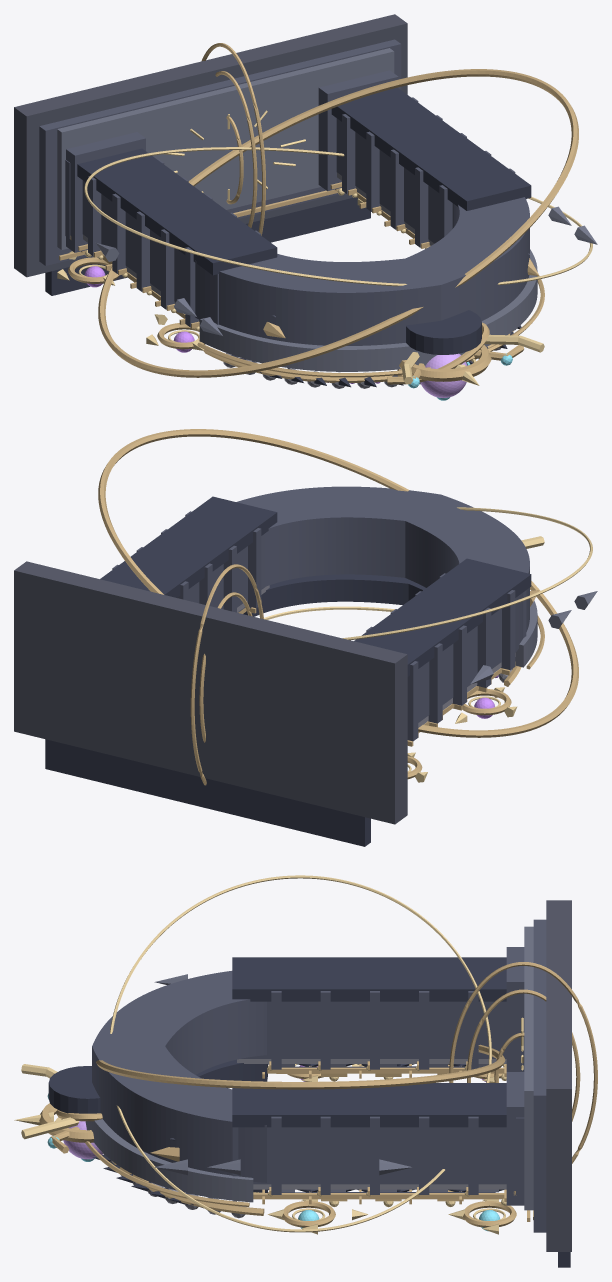
The model's file is NW_OBSIDIAN_GATE_Contour3D_DEMO.glb.
3 renders of one model, top to bottom at view 1: azimuth 30°, elevation 25°; view 2: azimuth 150°, elevation 25°; view 3: azimuth 270°, elevation 25°, orthographic.
Visible parts, largest first — view 1: G02__obsidian, G01__rough_black, G06__slate, G06__platform, G01__obsidian, G06__obsidian, G04__bronze, G02__slate, G06__rough_black, G04__gold, G06__bronze, G05__rough_black (+6 smaller); view 2: G06__platform, G02__obsidian, G01__rough_black, G01__obsidian, G06__rough_black, G04__bronze, G02__rough_black, G04__gold, G06__bronze, G02__slate, G04__slate; view 3: G01__obsidian, G02__obsidian, G01__rough_black, G06__platform, G04__bronze, G06__obsidian, G04__gold, G02__slate, G06__bronze, G06__slate, G01__slate_light, G05__rough_black (+9 smaller).
Boxes of the visible parts, left/top/right/bottom form: G02__obsidian: left=195, top=197, right=529, bottom=345; G01__rough_black: left=77, top=87, right=531, bottom=275; G06__slate: left=57, top=48, right=394, bottom=249; G06__platform: left=14, top=14, right=407, bottom=277; G01__obsidian: left=65, top=97, right=529, bottom=327; G06__obsidian: left=39, top=39, right=401, bottom=265; G04__bronze: left=68, top=69, right=578, bottom=377; G02__slate: left=199, top=249, right=537, bottom=371; G06__rough_black: left=45, top=197, right=370, bottom=295; G04__gold: left=57, top=147, right=592, bottom=350; G06__bronze: left=59, top=43, right=341, bottom=260; G05__rough_black: left=406, top=310, right=481, bottom=354; G06__platform: left=14, top=561, right=407, bottom=824; G02__obsidian: left=236, top=486, right=529, bottom=652; G01__rough_black: left=100, top=496, right=531, bottom=676; G01__obsidian: left=112, top=511, right=526, bottom=741; G06__rough_black: left=45, top=739, right=370, bottom=846; G04__bronze: left=98, top=429, right=578, bottom=779; G02__rough_black: left=243, top=574, right=512, bottom=669; G04__gold: left=342, top=507, right=592, bottom=782; G06__bronze: left=190, top=564, right=263, bottom=785; G02__slate: left=515, top=600, right=537, bottom=667; G04__slate: left=470, top=591, right=597, bottom=684; G01__obsidian: left=170, top=991, right=524, bottom=1194; G02__obsidian: left=92, top=971, right=266, bottom=1182; G01__rough_black: left=232, top=957, right=506, bottom=1127; G06__platform: left=546, top=900, right=571, bottom=1251; G04__bronze: left=96, top=1044, right=516, bottom=1227; G06__obsidian: left=506, top=919, right=546, bottom=1232; G04__gold: left=110, top=875, right=533, bottom=1234; G02__slate: left=85, top=1119, right=253, bottom=1202; G06__bronze: left=449, top=962, right=597, bottom=1221; G06__slate: left=524, top=926, right=533, bottom=1210; G01__slate_light: left=237, top=1059, right=506, bottom=1189; G05__rough_black: left=48, top=1066, right=100, bottom=1113.
Size of the model in its own units: 6.51 by 2.98 by 6.88.
